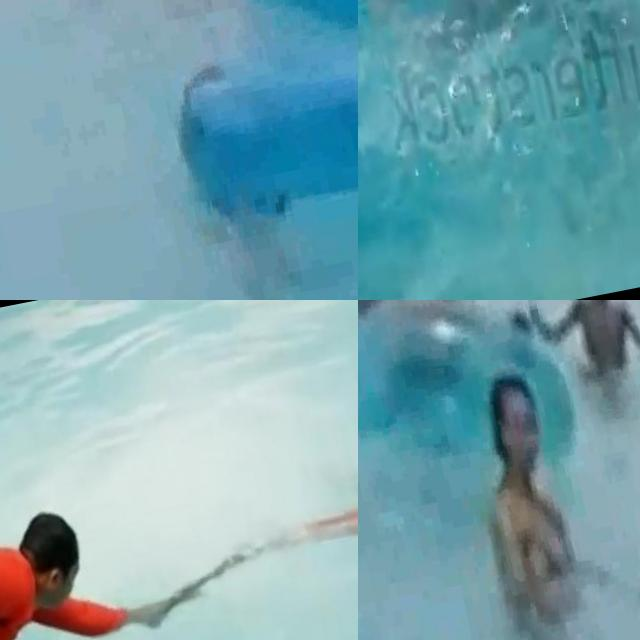drowning: (131, 20, 305, 300), (358, 0, 633, 87)
out of water: (0, 482, 135, 640)
swimming: (442, 364, 600, 636), (510, 300, 640, 414)
